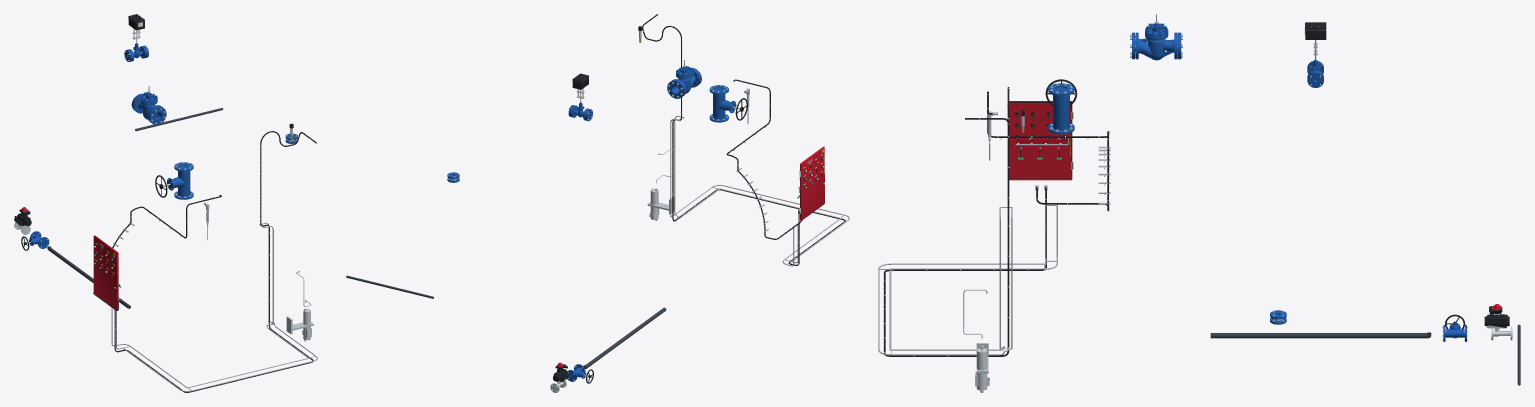
3 views of the same model, side by side, from view 1: azimuth 30°, elevation 25°; view 2: azimuth 150°, elevation 25°; view 3: azimuth 270°, elevation 25° (orthographic). The views are drawn at different scales.
Visible parts, largest first — view 1: cabinet_door / cabinet_door_5.npz, cables / zinc, wiring_pressure_switch_1 / black, steam_manual / blue, gpz CAD solid 0, wiring_lcs600 / black, bcv7432 / bcv7432_0.npz, drain_isolation_1 / drain_isolation_1_0.npz, bottom_piping / dark, sample_piping / steel, gpz / blue; view 2: cabinet_door / cabinet_door_5.npz, cables / zinc, wiring_pressure_switch_1 / black, steam_manual / blue, gpz CAD solid 0, wiring_lcs600 / black; view 3: cabinet_door / cabinet_door_5.npz, cables / zinc, wiring_pressure_switch_1 / black, bottom_piping / dark, gpz CAD solid 0, steam_manual / blue, bcv7432 / bcv7432_0.npz, wiring_lcs600 / black.
Part boxes in pixels (x1=…): cabinet_door / cabinet_door_5.npz: x1=93, y1=235, x2=118, y2=309; cables / zinc: x1=111, y1=222, x2=317, y2=391; wiring_pressure_switch_1 / black: x1=114, y1=131, x2=316, y2=392; steam_manual / blue: x1=167, y1=162, x2=193, y2=199; gpz CAD solid 0: x1=133, y1=86, x2=161, y2=121; wiring_lcs600 / black: x1=93, y1=194, x2=221, y2=310; bcv7432 / bcv7432_0.npz: x1=14, y1=207, x2=31, y2=234; drain_isolation_1 / drain_isolation_1_0.npz: x1=21, y1=231, x2=49, y2=250; bottom_piping / dark: x1=47, y1=246, x2=130, y2=308; sample_piping / steel: x1=286, y1=270, x2=313, y2=334; gpz / blue: x1=131, y1=93, x2=166, y2=124; cabinet_door / cabinet_door_5.npz: x1=799, y1=146, x2=824, y2=220; cables / zinc: x1=670, y1=116, x2=849, y2=266; wiring_pressure_switch_1 / black: x1=642, y1=14, x2=845, y2=265; steam_manual / blue: x1=709, y1=85, x2=736, y2=122; gpz CAD solid 0: x1=672, y1=60, x2=700, y2=95; wiring_lcs600 / black: x1=726, y1=79, x2=801, y2=239; cabinet_door / cabinet_door_5.npz: x1=1009, y1=101, x2=1073, y2=180; cables / zinc: x1=878, y1=205, x2=1057, y2=355; wiring_pressure_switch_1 / black: x1=883, y1=87, x2=1046, y2=356; bottom_piping / dark: x1=1210, y1=332, x2=1431, y2=338; gpz CAD solid 0: x1=1135, y1=14, x2=1177, y2=60; steam_manual / blue: x1=1048, y1=83, x2=1074, y2=134; bcv7432 / bcv7432_0.npz: x1=1484, y1=304, x2=1512, y2=340; wiring_lcs600 / black: x1=987, y1=91, x2=1109, y2=211.
Bounding box in the file's own units: 3.86 × 3.19 × 5.34.
